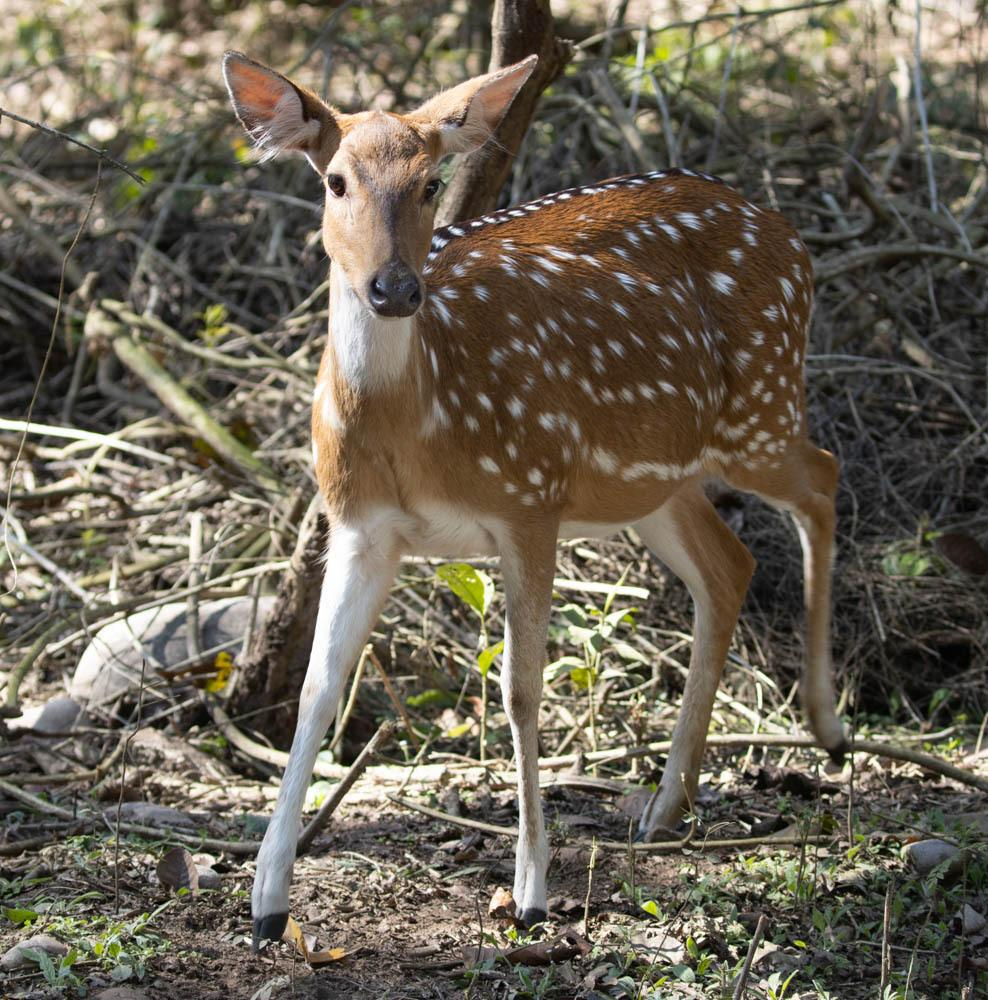Deer: (222, 54, 841, 929)
